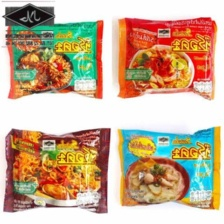snack: (0, 121, 117, 218), (114, 120, 224, 214), (114, 10, 221, 104), (2, 12, 109, 104)
